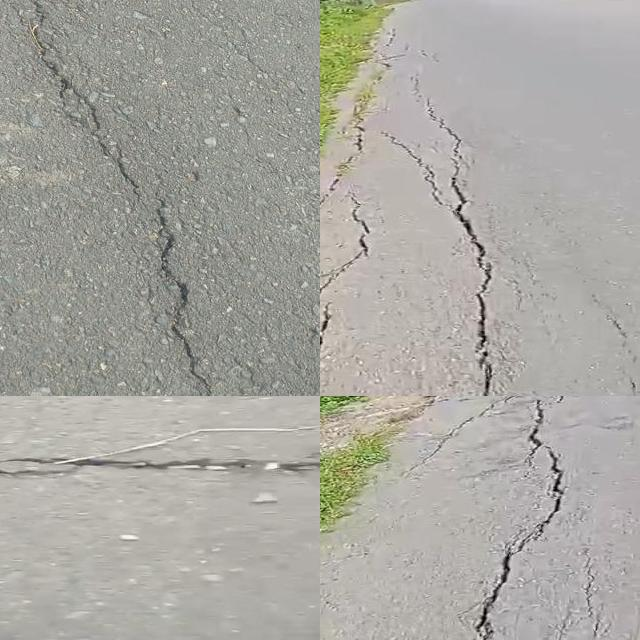Melintang: (0, 443, 320, 496)
Memanjang: (13, 0, 238, 396), (450, 396, 578, 640), (418, 81, 506, 396), (320, 189, 385, 396)
